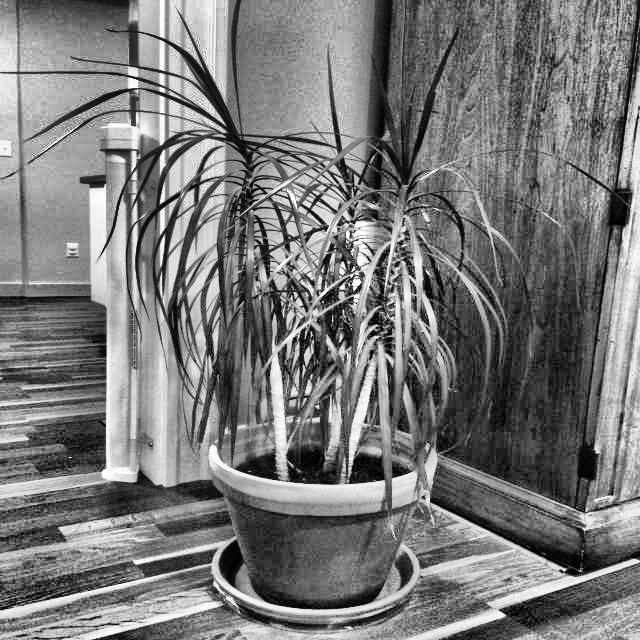plants: (123, 24, 464, 615)
